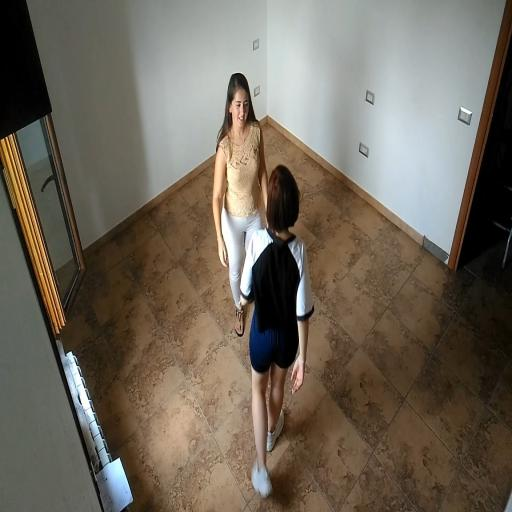cumprimento: (202, 68, 320, 508)
